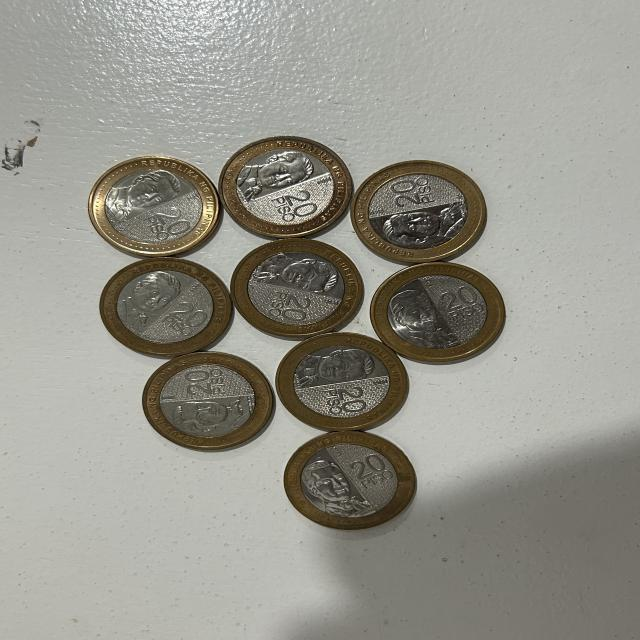20_New_Front: (344, 448, 405, 498), (172, 365, 238, 406), (425, 285, 488, 327), (372, 176, 439, 214), (318, 379, 372, 426), (264, 187, 322, 230), (261, 289, 324, 328), (138, 207, 196, 246)
